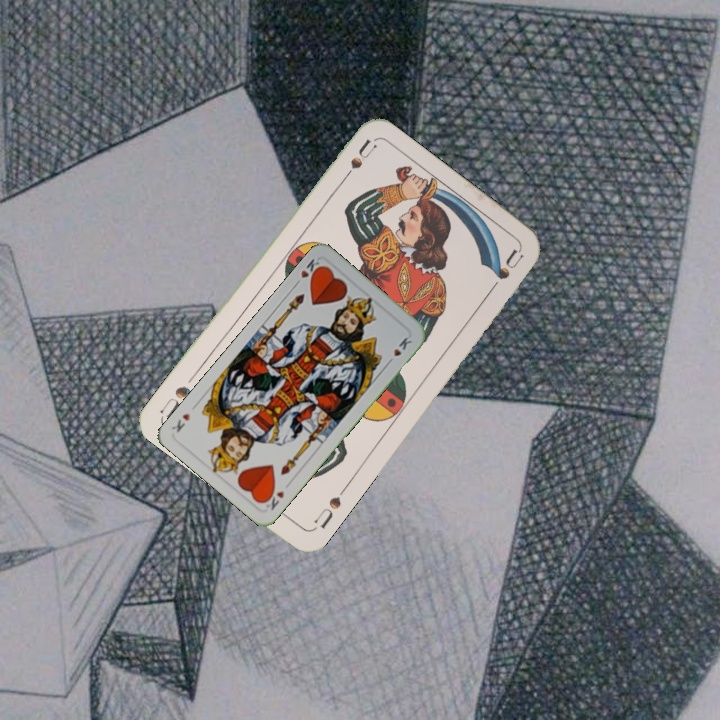HK: (290, 255, 326, 289), (258, 485, 287, 513)
SU: (334, 136, 379, 189), (309, 492, 344, 531)
